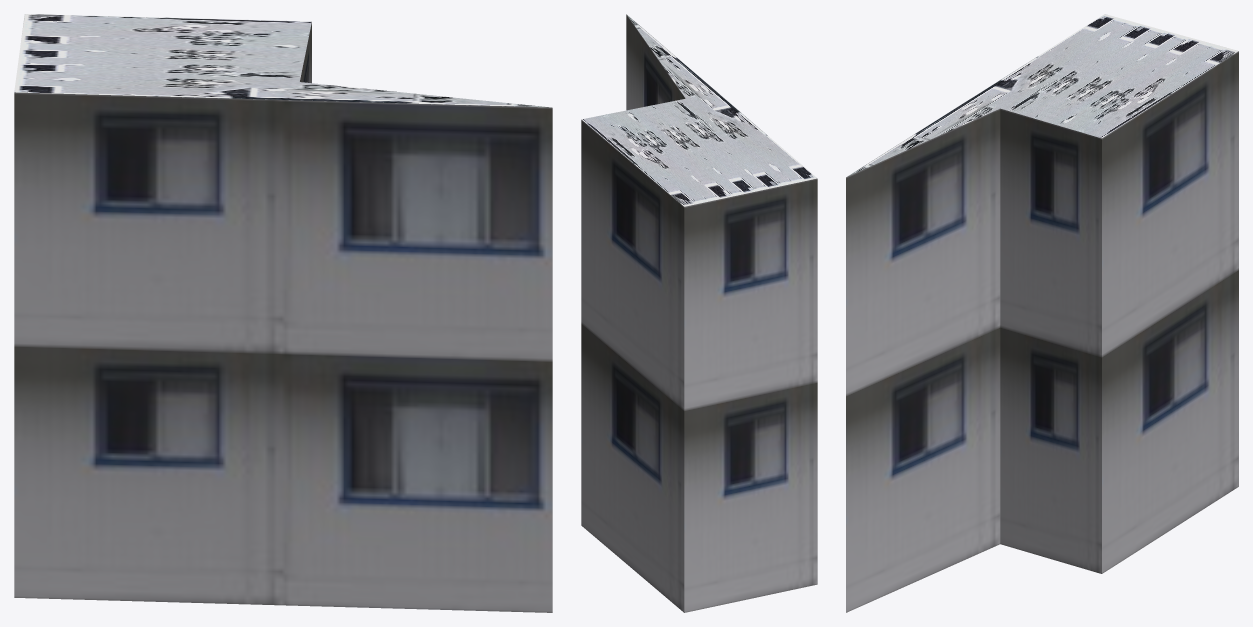
The model's file is ResTex__3783.fbx.
The picture shows the model from 3 angles, left to right: view 1: azimuth 30°, elevation 25°; view 2: azimuth 150°, elevation 25°; view 3: azimuth 270°, elevation 25°; orthographic projection. The views are drawn at different scales.
Visible parts, largest first — view 1: CityEngineMaterial_9_m, CityEngineMaterial_2_m; view 2: CityEngineMaterial_9_m, CityEngineMaterial_2_m; view 3: CityEngineMaterial_9_m, CityEngineMaterial_2_m.
Part boxes in pixels (x1,y1,x2,y2): CityEngineMaterial_9_m: (14,22,552,612); CityEngineMaterial_2_m: (14,14,551,107); CityEngineMaterial_9_m: (581,14,817,612); CityEngineMaterial_2_m: (581,15,817,206); CityEngineMaterial_9_m: (846,51,1238,612); CityEngineMaterial_2_m: (847,14,1238,176).
Size of the model in its own units: 4.83 by 6 by 4.9.
2 materials, 2 textured.
